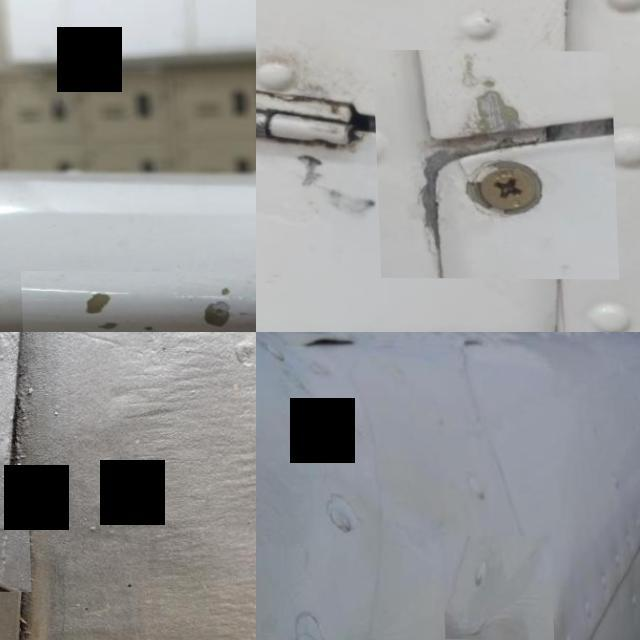Crack: (371, 49, 616, 278), (18, 270, 256, 332)
Dent: (442, 536, 547, 639)
Missing_Fastener: (0, 467, 28, 591)
